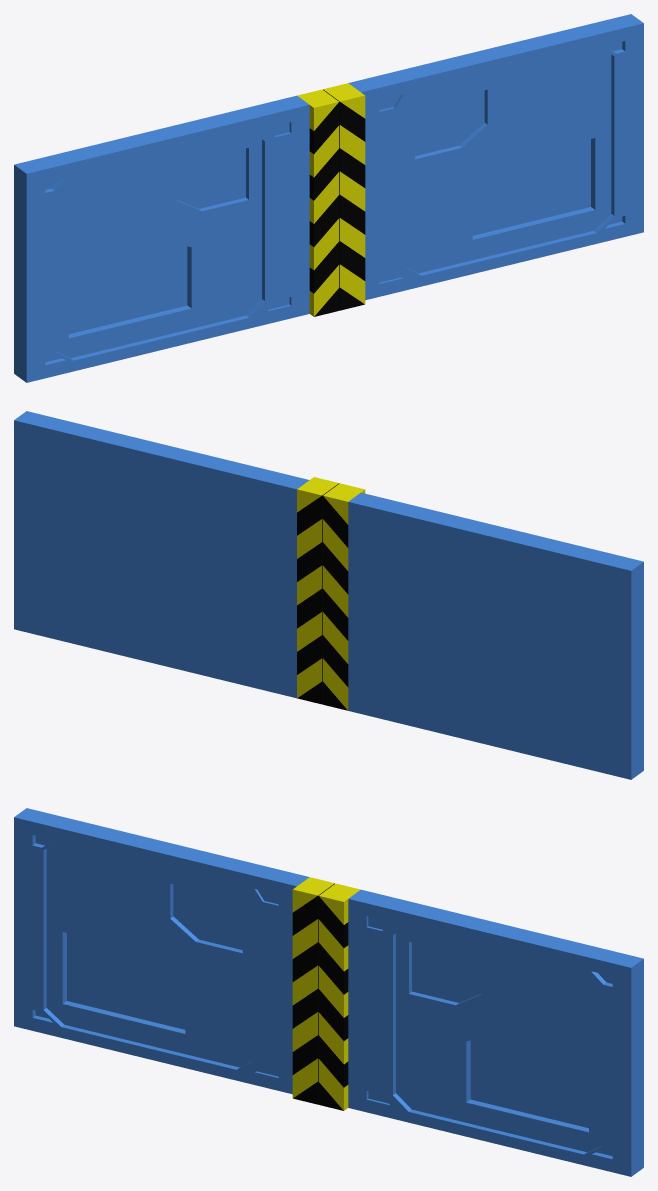
File: PuertaPrueba.fbx
3 renders of one model, top to bottom at view 1: azimuth 30°, elevation 25°; view 2: azimuth 150°, elevation 25°; view 3: azimuth 330°, elevation 25°, orthographic.
Visible parts, largest first — view 1: Cube, Cube.004, Cube.003, Amarillo, Cube.001, Cube.002; view 2: Cube, Amarillo, Cube.001; view 3: Cube, Cube.004, Cube.003, Amarillo, Cube.001, Cube.002.
Boxes of the visible parts, x1,y1,x2,y2 form: Cube: (14,14,643,382); Cube.004: (60,84,603,345); Cube.003: (56,45,611,357); Amarillo: (297,83,365,316); Cube.001: (309,89,365,316); Cube.002: (45,42,622,362); Cube: (14,411,643,779); Amarillo: (297,477,365,710); Cube.001: (297,483,348,710); Cube: (14,808,643,1176); Cube.004: (54,878,597,1139); Cube.003: (46,839,601,1151); Amarillo: (292,877,360,1110); Cube.001: (292,883,348,1110); Cube.002: (35,836,612,1156).
Size of the model in its own units: 618 by 200 by 29.41.
